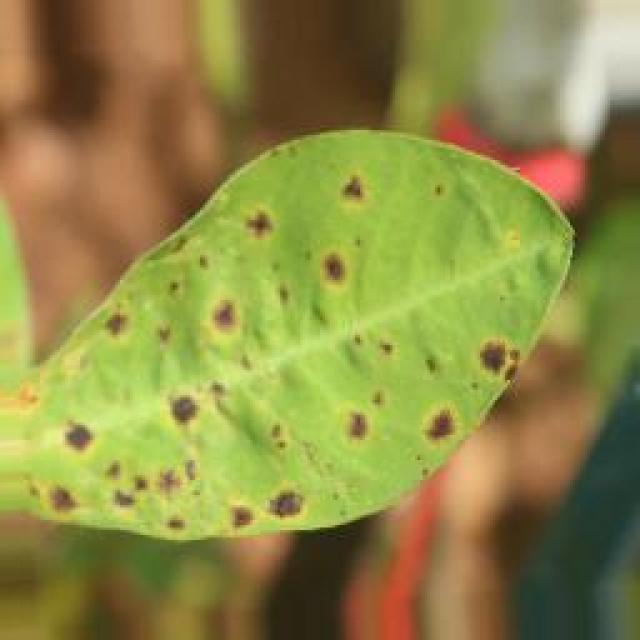Yellowish: (25, 154, 540, 569)
